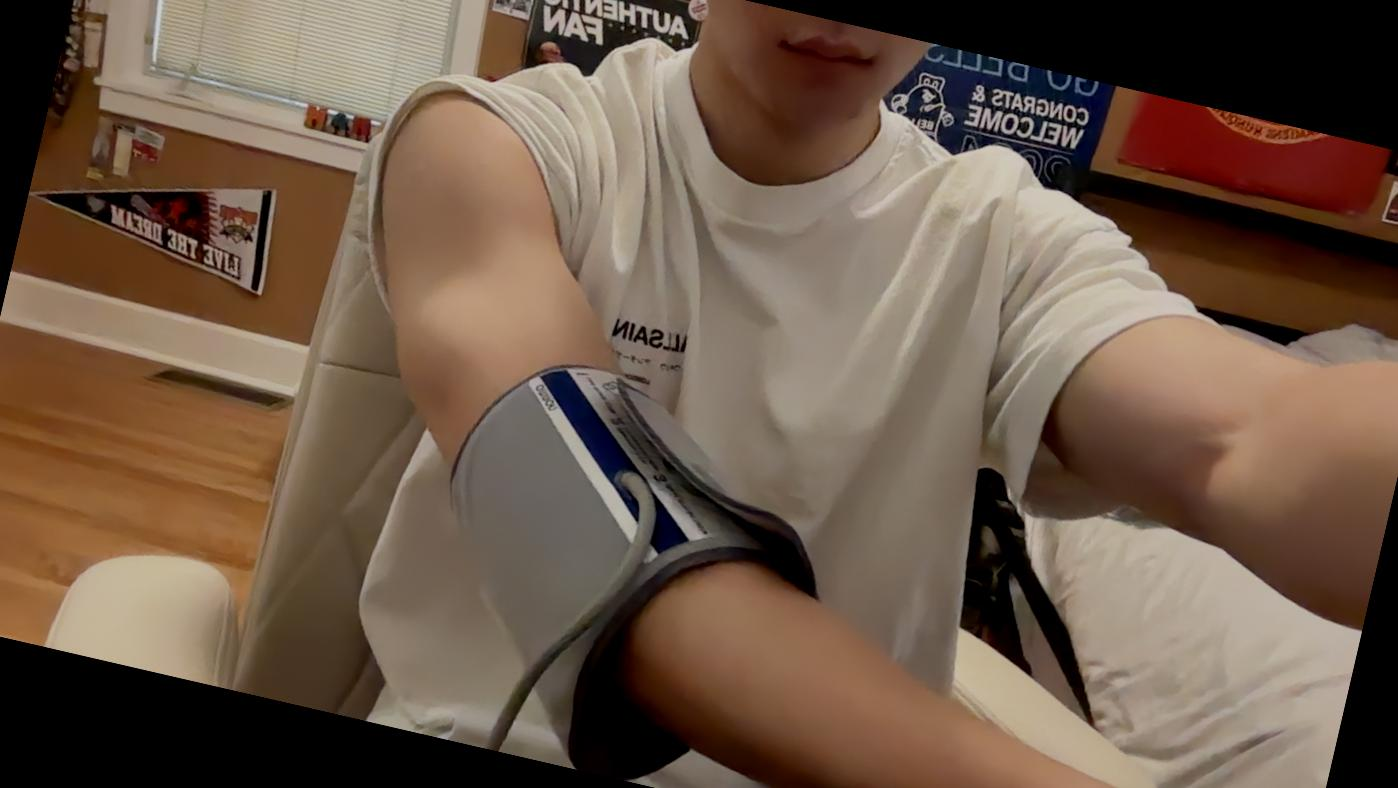cuff: (393, 341, 843, 788)
